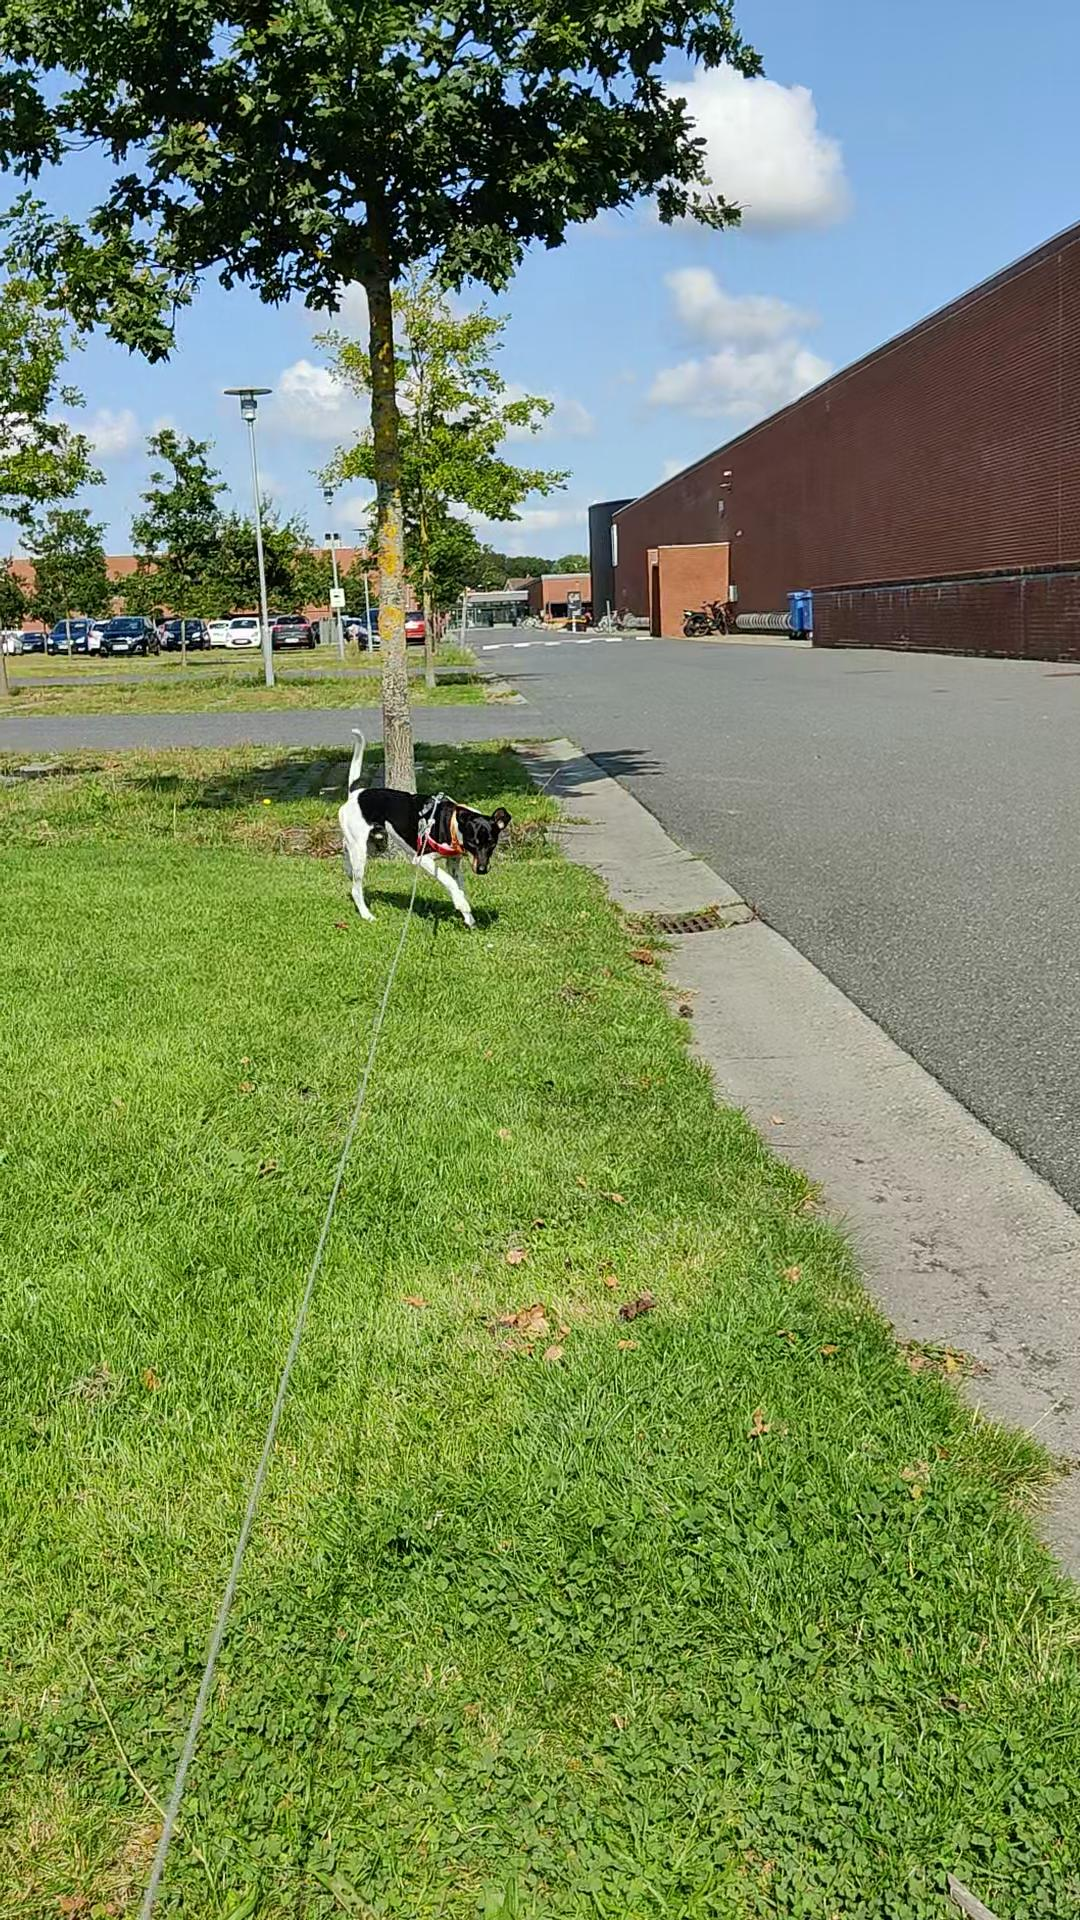Dog: (335, 723, 514, 926)
